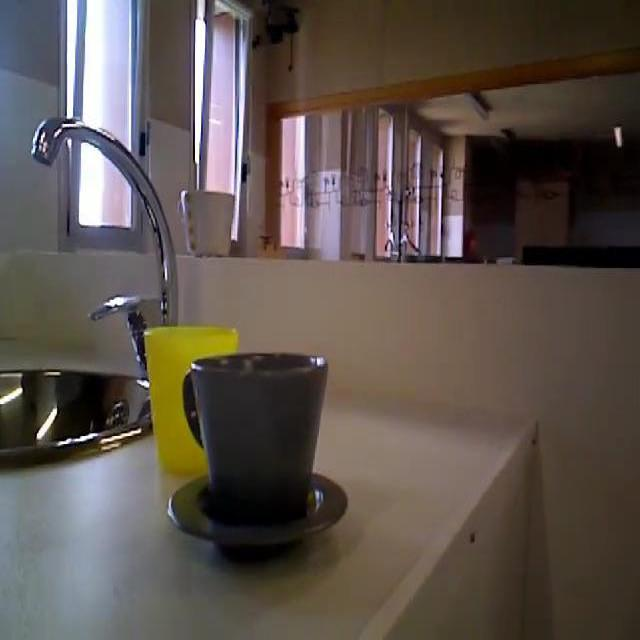cup: (188, 354, 332, 555)
